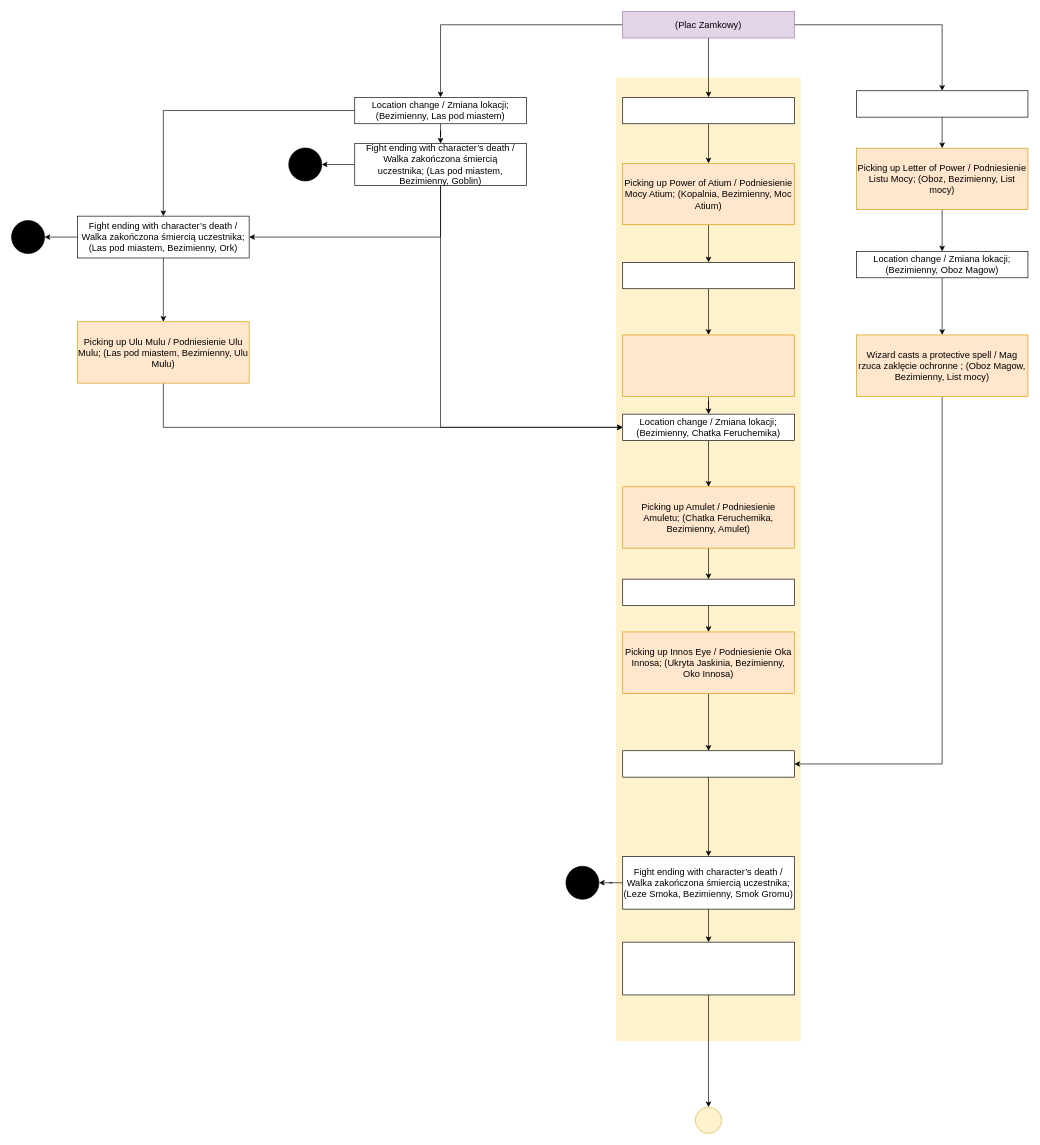
This 1040x1145 diagram has some shape labels left out. The shapes that lost their labels are listed below. From the top down, each one's centre as x and y in pixels, then its label:
At (x=708, y=110): "Location change / Zmiana lokacji; (Bezimienny, Kopalnia)".
At (x=942, y=103): "Location change / Zmiana lokacji; (Bezimienny, Oboz)".
At (x=708, y=275): "Location change / Zmiana lokacji; (Bezimienny, Gornicza Dolina)".
At (x=708, y=365): "Picking up Ore / Podniesienie Rudy; (Gornicza Dolina, Bezimienny, Ore)".
At (x=708, y=592): "Location change / Zmiana lokacji; (Bezimienny, Ukryta Jaskinia)".
At (x=708, y=763): "Location change / Zmiana lokacji; (Bezimienny, Leze Smoka)".
At (x=708, y=968): "Picking item up / Podniesienie przedmiotu; (Leze Smoka, Bezimienny, Dragon_egg)".
